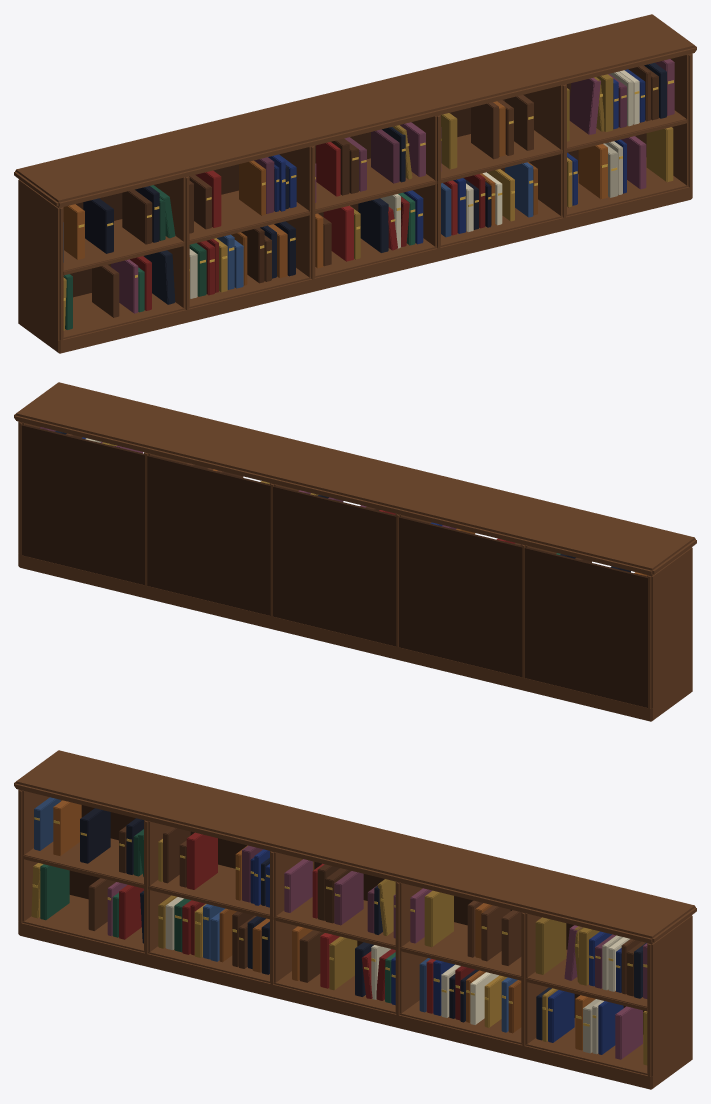
File: backshelf.glb
3 renders of one model, top to bottom at view 1: azimuth 30°, elevation 25°; view 2: azimuth 150°, elevation 25°; view 3: azimuth 330°, elevation 25°, orthographic.
Visible parts, largest first — view 1: backshelf_wood, backshelf_books, backshelf_wood_dark, backshelf_gold_leaf; view 2: backshelf_wood_dark, backshelf_wood, backshelf_books; view 3: backshelf_wood, backshelf_books, backshelf_wood_dark, backshelf_gold_leaf.
Part boxes in pixels (bbox=[...]): backshelf_wood: bbox=[14, 14, 696, 353]; backshelf_books: bbox=[63, 59, 674, 330]; backshelf_wood_dark: bbox=[70, 83, 646, 297]; backshelf_gold_leaf: bbox=[63, 80, 673, 300]; backshelf_wood_dark: bbox=[21, 424, 647, 707]; backshelf_wood: bbox=[14, 382, 696, 721]; backshelf_books: bbox=[40, 427, 647, 576]; backshelf_wood: bbox=[14, 750, 696, 1089]; backshelf_books: bbox=[31, 797, 647, 1065]; backshelf_wood_dark: bbox=[69, 805, 644, 1034]; backshelf_gold_leaf: bbox=[32, 817, 647, 1026].
Bounding box in the file's own units: 4.44 × 1.02 × 0.54.
